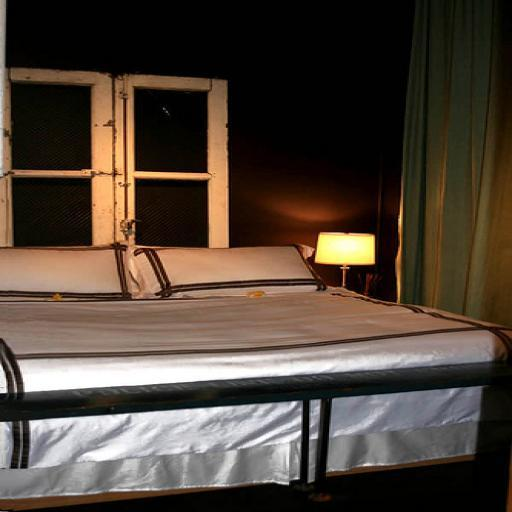bed: (4, 212, 508, 496)
